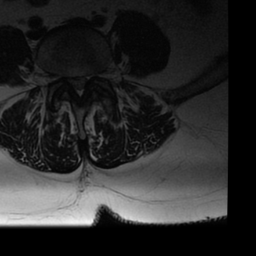CCS_normal: (75, 67, 83, 103)
LFS_severe_stenosis: (90, 62, 98, 87)
LLS_severe_stenosis: (83, 65, 90, 92)
RFS_severe_stenosis: (58, 66, 67, 88)
RLS_severe_stenosis: (66, 67, 74, 93)
